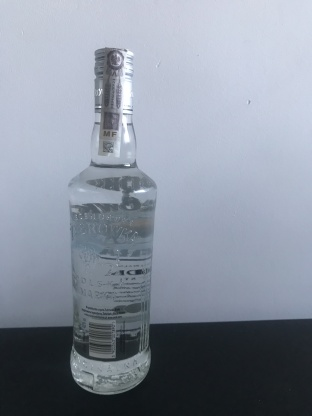nakretka: (90, 43, 136, 118)
